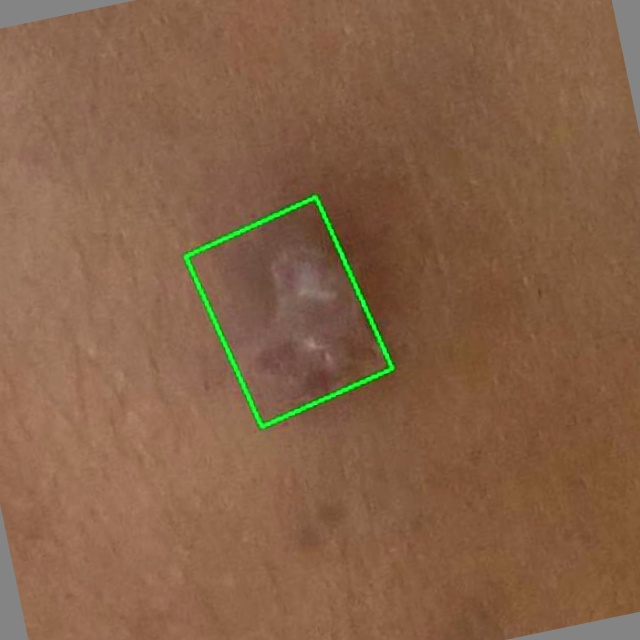Contact Dermatitis: (185, 196, 393, 426)
